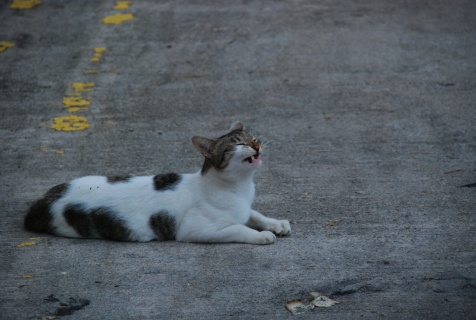Cat: (20, 120, 294, 243)
